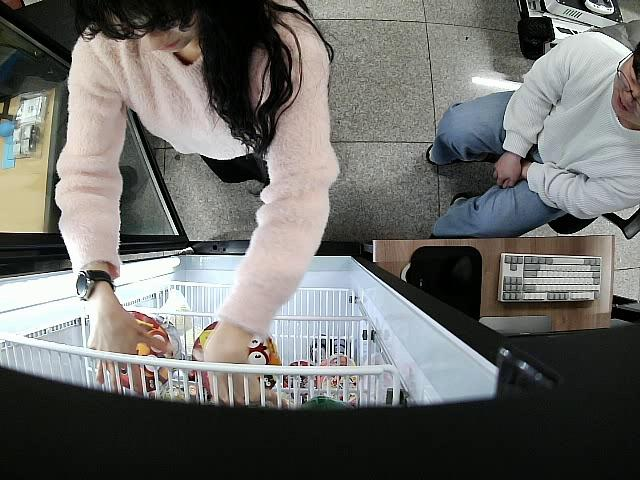00_hand: (84, 290, 174, 401), (201, 314, 267, 406), (492, 151, 524, 188)
05_nuguri_L: (189, 321, 278, 396), (110, 306, 183, 387)
